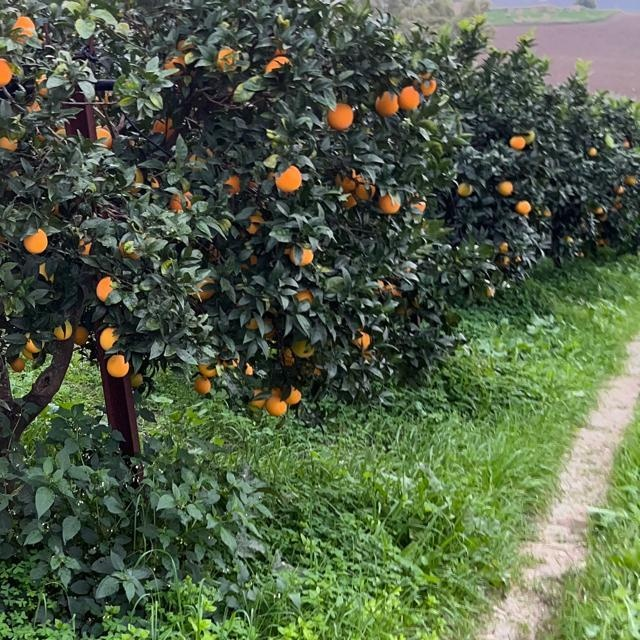orange: (332, 166, 368, 204), (326, 99, 354, 129), (275, 164, 303, 192), (326, 100, 352, 130), (11, 11, 37, 39), (289, 337, 317, 363), (168, 186, 192, 214), (375, 88, 399, 114), (24, 229, 48, 253), (289, 241, 313, 265), (399, 84, 423, 108), (105, 353, 127, 377), (265, 52, 289, 74), (215, 46, 237, 70), (287, 242, 311, 264), (151, 115, 173, 139), (354, 328, 374, 354), (56, 320, 78, 342), (255, 314, 277, 336), (379, 191, 401, 211), (193, 373, 213, 395), (494, 242, 514, 264), (96, 276, 114, 300), (418, 74, 436, 98), (284, 386, 304, 406), (481, 281, 501, 301), (100, 324, 118, 346), (21, 338, 39, 358), (93, 125, 111, 145), (264, 397, 282, 415), (75, 236, 93, 254), (495, 177, 513, 193), (225, 174, 241, 192), (0, 135, 16, 153), (292, 288, 312, 302), (39, 262, 53, 282), (0, 57, 10, 83), (248, 215, 262, 233), (517, 200, 533, 214), (456, 181, 472, 195), (587, 145, 599, 157), (0, 227, 5, 251)
